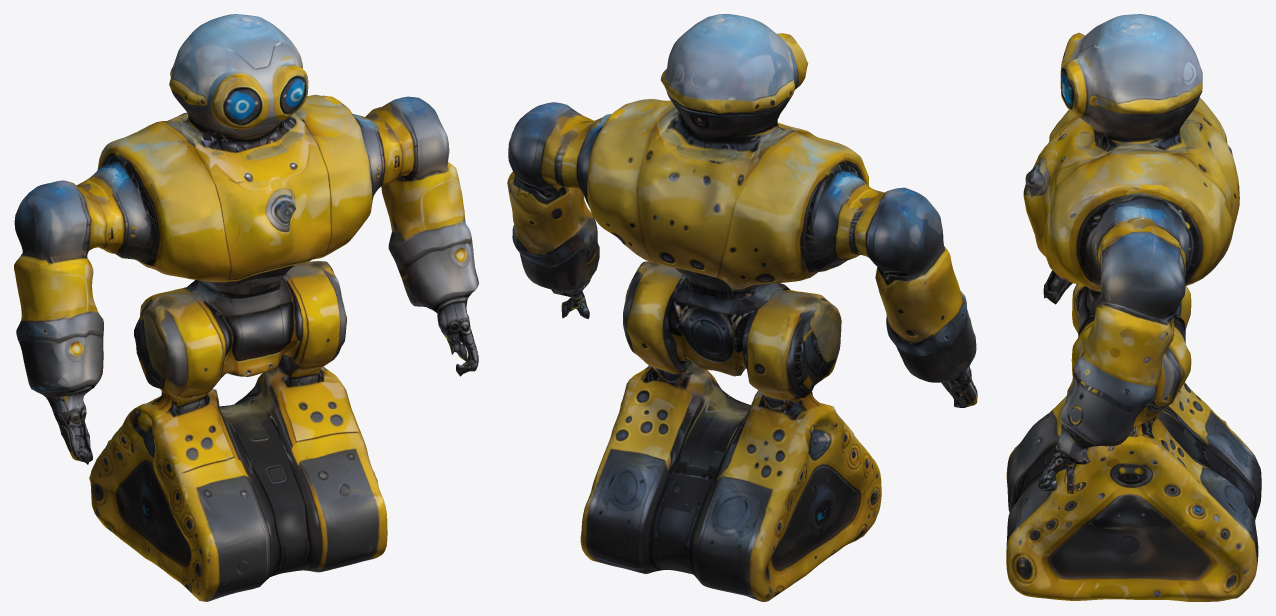
3 views of the same model, side by side, from view 1: azimuth 30°, elevation 25°; view 2: azimuth 150°, elevation 25°; view 3: azimuth 270°, elevation 25° (orthographic). The views are drawn at different scales.
Size of the model in its own units: 1.04 by 1.2 by 0.5107.
1 material, 1 textured.
